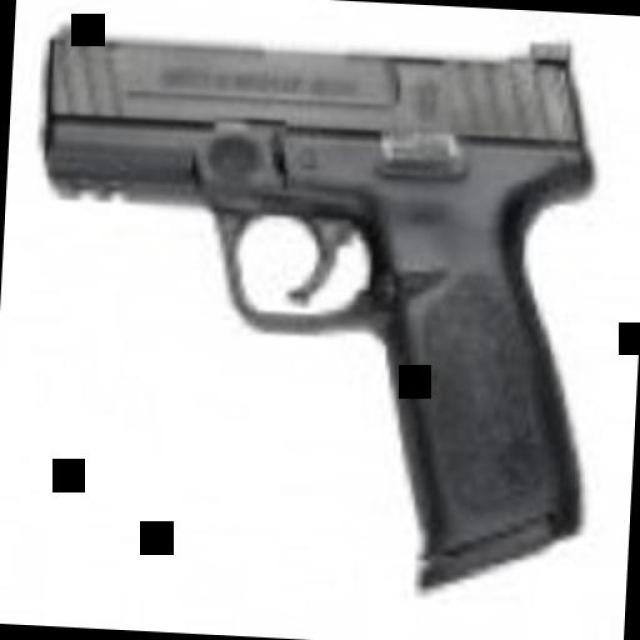gun: (9, 0, 605, 599)
